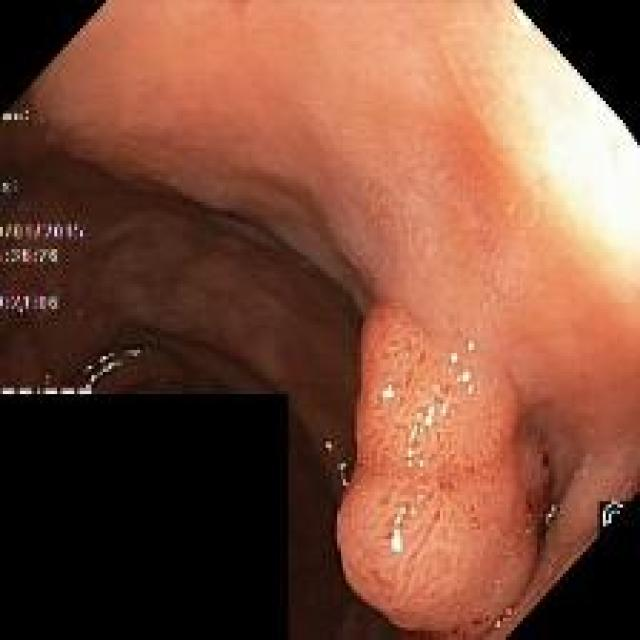Polyps: (338, 308, 548, 638)
